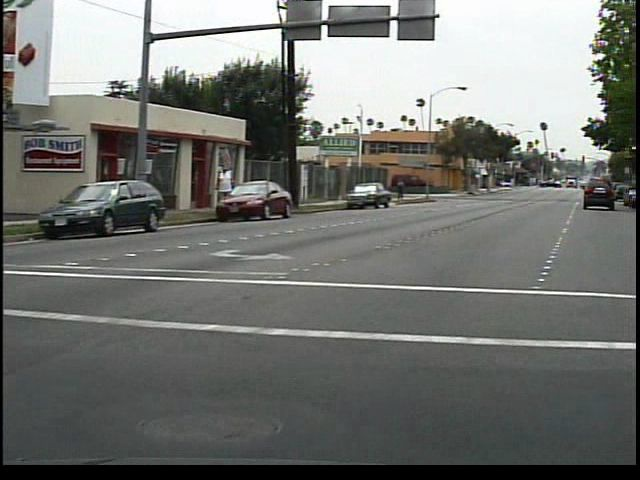person: (216, 159, 242, 217), (400, 176, 414, 202)
